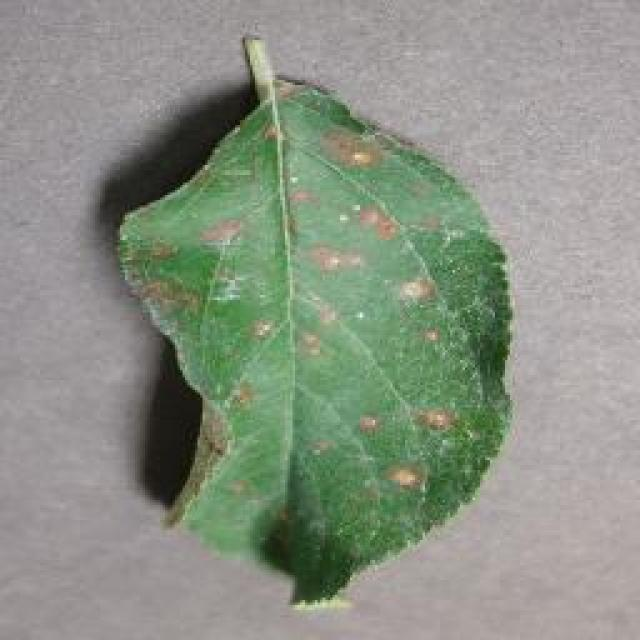apple rust disease: (113, 35, 515, 607)
